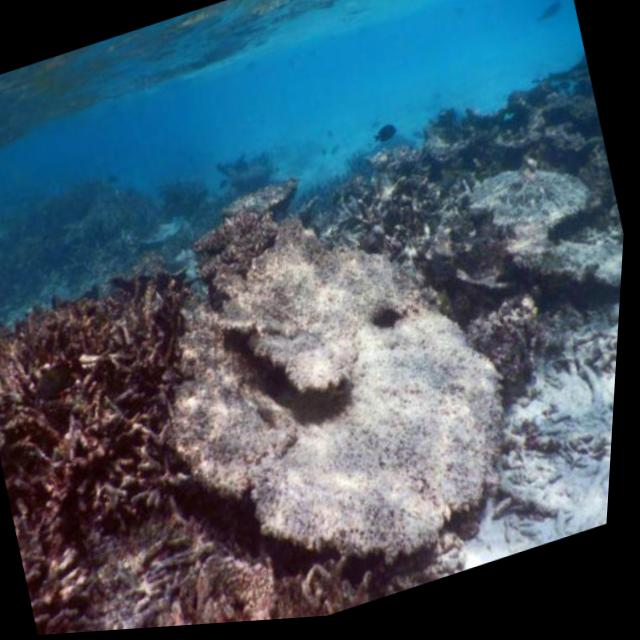Dead Coral: (0, 140, 564, 640), (156, 149, 538, 630), (0, 254, 266, 640), (482, 304, 624, 555), (371, 157, 482, 268)
